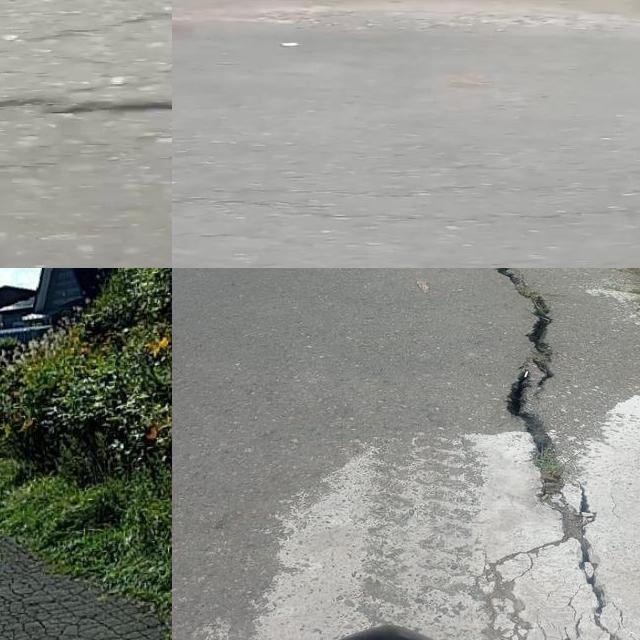Melintang: (0, 78, 172, 129)
Memanjang: (486, 268, 625, 640)
